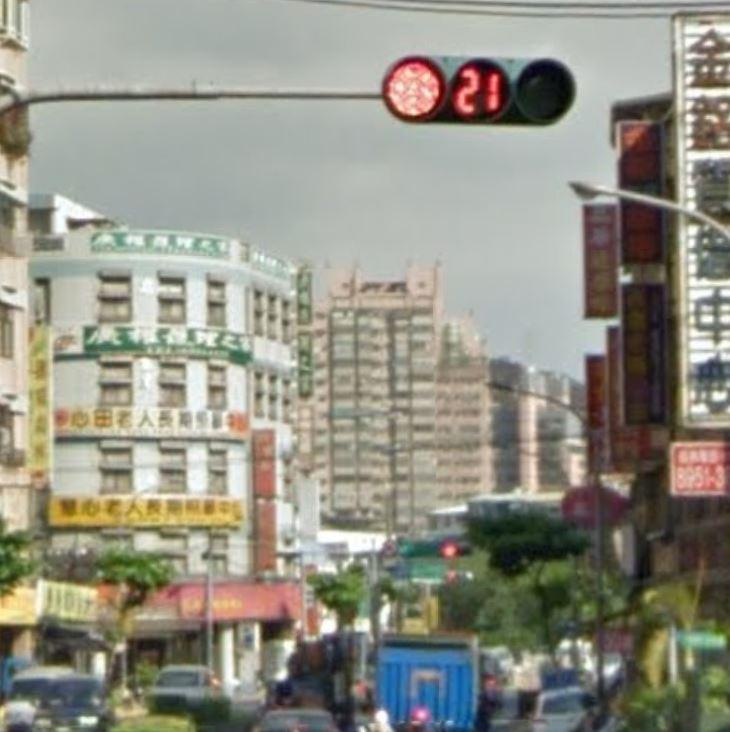red_traffic_light: (379, 52, 576, 125)
